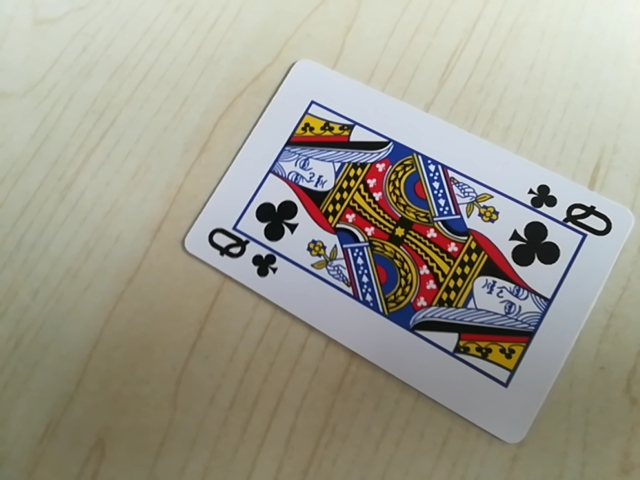mh q: (524, 184, 613, 235), (200, 224, 280, 279)
